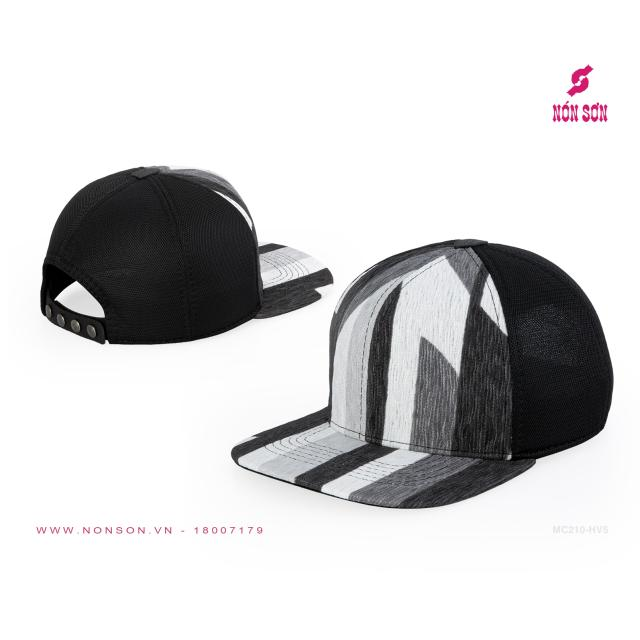Cap: (223, 232, 621, 514), (33, 160, 338, 354)
